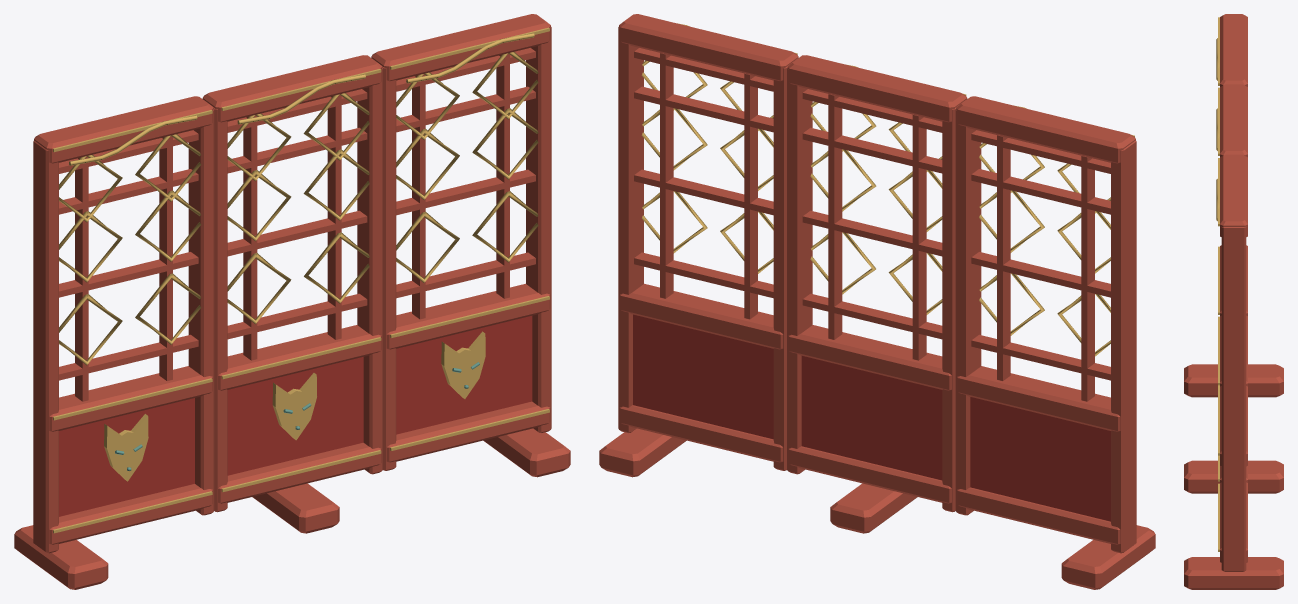
The model's file is lattice_screen.glb.
3 renders of one model, left to right at view 1: azimuth 30°, elevation 25°; view 2: azimuth 150°, elevation 25°; view 3: azimuth 270°, elevation 25°, orthographic. The views are drawn at different scales.
Parts seen in each view (by area): view 1: lattice_screen_Timber, lattice_screen_Cloth, lattice_screen_Gold; view 2: lattice_screen_Timber, lattice_screen_Cloth, lattice_screen_Gold; view 3: lattice_screen_Timber, lattice_screen_Gold.
Part boxes in pixels (x1,y1,x2,y2): lattice_screen_Timber: (14,14,570,589); lattice_screen_Cloth: (59,316,532,516); lattice_screen_Gold: (53,27,549,533); lattice_screen_Timber: (599,14,1155,589); lattice_screen_Cloth: (633,314,1110,521); lattice_screen_Gold: (641,23,1134,356); lattice_screen_Timber: (1184,14,1283,589); lattice_screen_Gold: (1216,17,1219,551).
Bounding box in the file's own units: 3 × 2.45 × 0.6.
